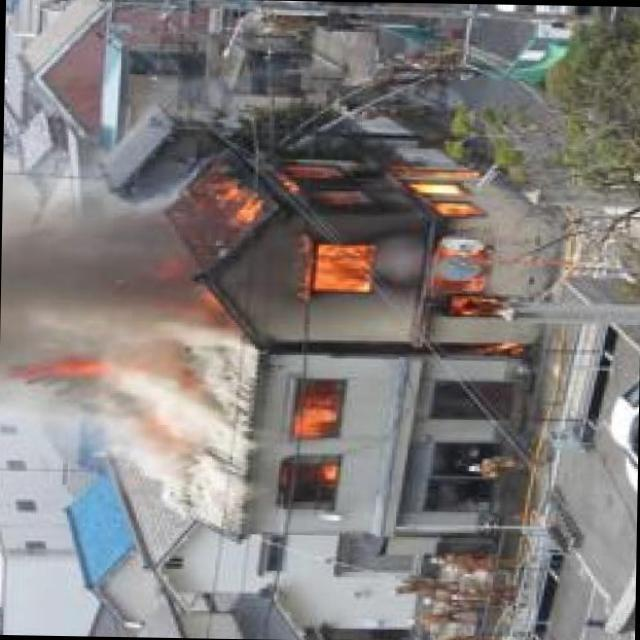Fire: (192, 159, 563, 336), (27, 344, 212, 389), (299, 376, 347, 505)
